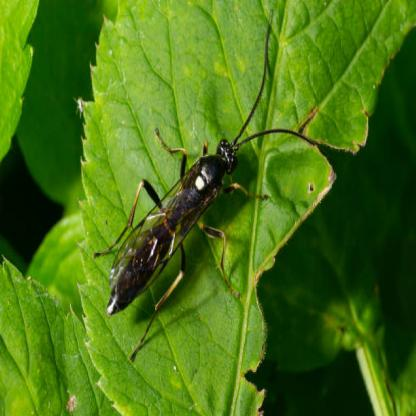sawfly: (94, 24, 318, 366)
